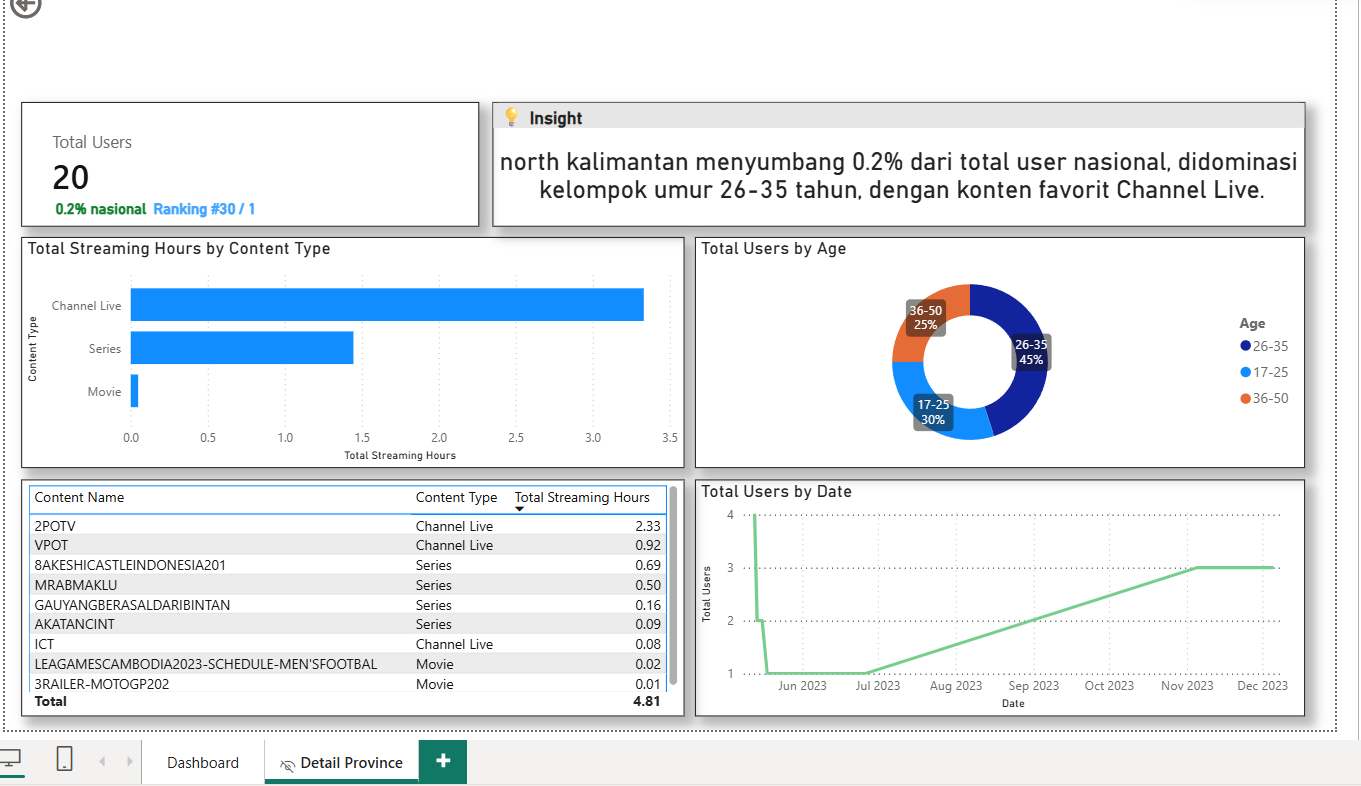

What the dashboard file says about the page in this screenshot:
{"tool":"powerbi","page":{"name":"Detail Province","canvas":[1280,720],"ordinal":1},"visuals":[{"type":"actionButton","box":[0,0,100,40],"z":0},{"type":"cardVisual","fields":{"Data":["Fact_Streaming.Total Users"]},"box":[15.7,115.5,440.4,119.7],"z":1000},{"type":"clusteredBarChart","fields":{"Category":["Fact_Streaming.Content Type"],"Y":["Fact_Streaming.Total Streaming Hours"]},"box":[15.7,245.2,638.6,222.4],"z":2000},{"type":"lineChart","fields":{"Y":["Fact_Streaming.Total Users"],"Category":["Dim_Calendar.Date"]},"box":[664.2,478.9,587.3,228.1],"z":3000},{"type":"card","fields":{"Values":["Fact_Streaming.Percent Label"]},"box":[0,175.3,185.3,86.9],"z":4000},{"type":"card","fields":{"Values":["Fact_Streaming.Rank Label"]},"box":[99.8,175.3,185.3,86.9],"z":5000},{"type":"card","title":"💡 Insight","fields":{"Values":["Fact_Streaming.Province Insight"]},"box":[469,115.5,782.5,119.7],"z":6000},{"type":"donutChart","fields":{"Category":["Fact_Streaming.Age"],"Y":["Fact_Streaming.Total Users"]},"box":[664.2,245.2,587.3,222.4],"z":7000},{"type":"tableEx","title":"Top 5 Specific Content","fields":{"Values":["Fact_Streaming.Content Name","Fact_Streaming.Content Type","Fact_Streaming.Total Streaming Hours"]},"box":[15.7,478.9,638.6,228.1],"z":8000},{"type":"actionButton","box":[0,0,100,40],"z":9000}]}

Visuals, with their boxes in screenshot pixels (x1, y1, x2, y2):
actionButton: 0, 0, 98, 17
cardVisual - Fact_Streaming.Total Users: 9, 96, 471, 222
clusteredBarChart - Fact_Streaming.Content Type x Fact_Streaming.Total Streaming Hours: 9, 232, 679, 466
lineChart - Fact_Streaming.Total Users x Dim_Calendar.Date: 689, 477, 1305, 717
card - Fact_Streaming.Percent Label: 0, 159, 187, 250
card - Fact_Streaming.Rank Label: 98, 159, 292, 250
"💡 Insight" card: 485, 96, 1305, 222
donutChart - Fact_Streaming.Age x Fact_Streaming.Total Users: 689, 232, 1305, 466
"Top 5 Specific Content" tableEx: 9, 477, 679, 717
actionButton: 0, 0, 98, 17
